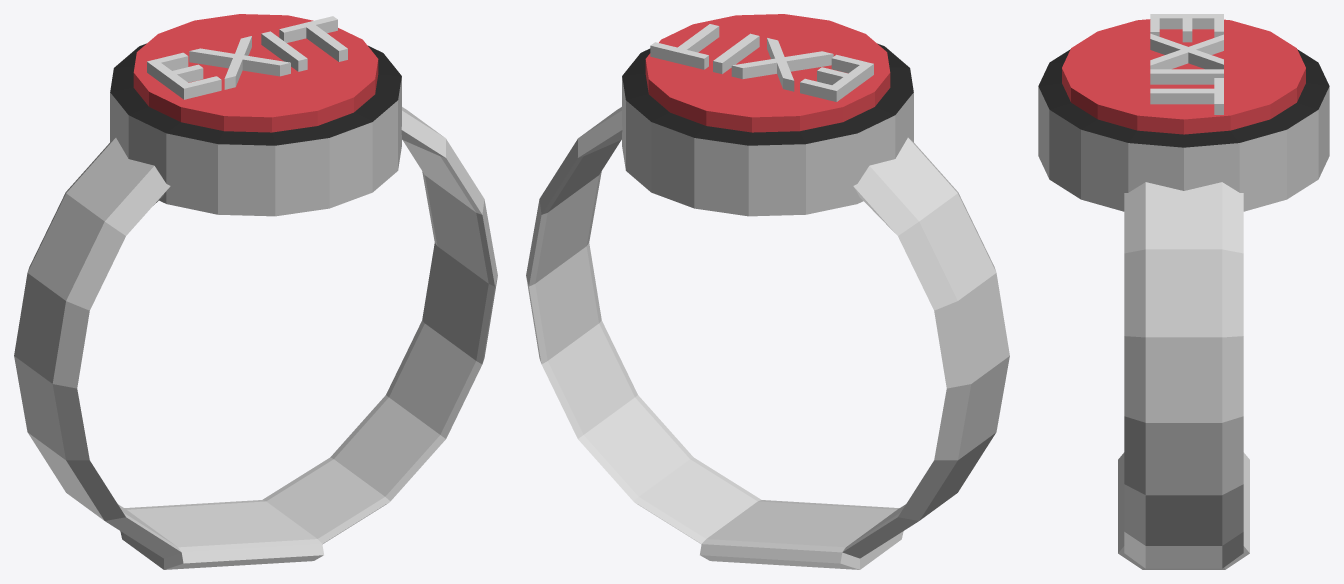
The model's file is watch.glb.
3 views of the same model, side by side, from view 1: azimuth 30°, elevation 25°; view 2: azimuth 150°, elevation 25°; view 3: azimuth 270°, elevation 25° (orthographic).
Parts seen in each view (by area): view 1: Watch; view 2: Watch; view 3: Watch.
Boxes of the visible parts, bbox=[...] form: Watch: bbox=[14, 14, 497, 569]; Watch: bbox=[526, 14, 1009, 569]; Watch: bbox=[1038, 14, 1329, 569].
Size of the model in its own units: 0.0617 by 0.0662 by 0.0353.
